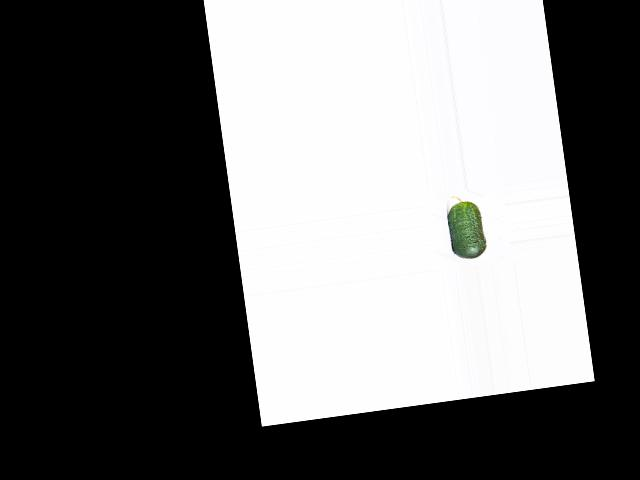cucumber: (445, 192, 487, 260)
